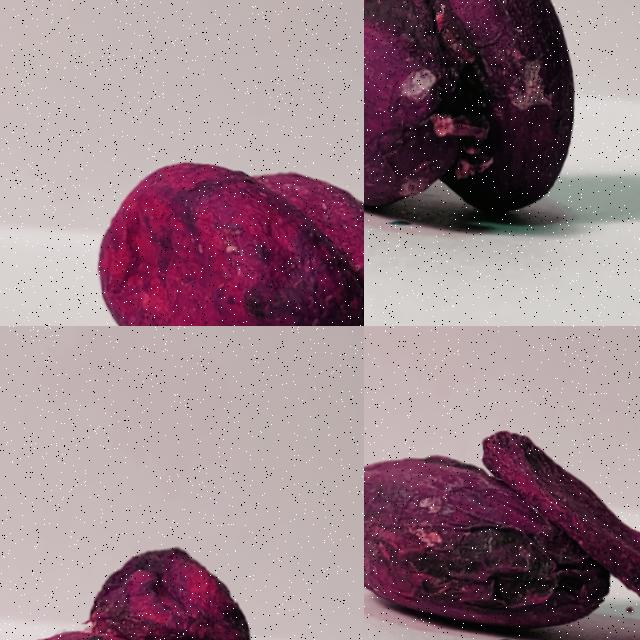Agglomerated_cocoabeans: (364, 0, 639, 275), (32, 97, 363, 325), (364, 384, 639, 639), (0, 482, 363, 639)
